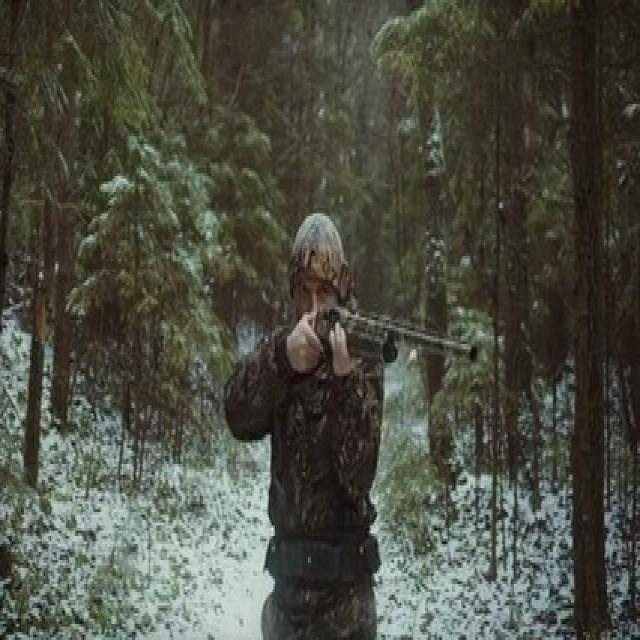Gun_Holder: (290, 299, 487, 390)
Person: (222, 208, 399, 640)
